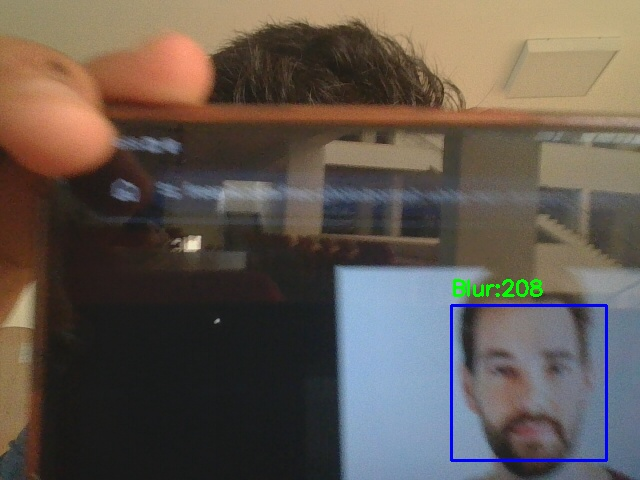fake: (451, 305, 606, 460)
